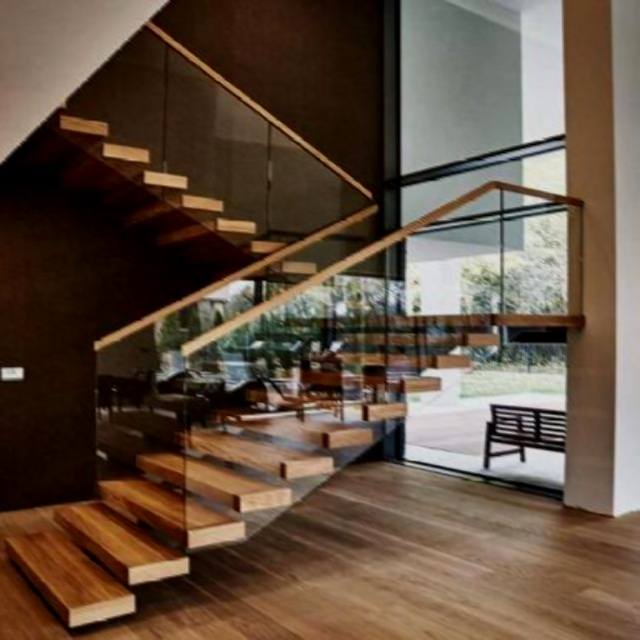stair: (9, 268, 596, 630)
